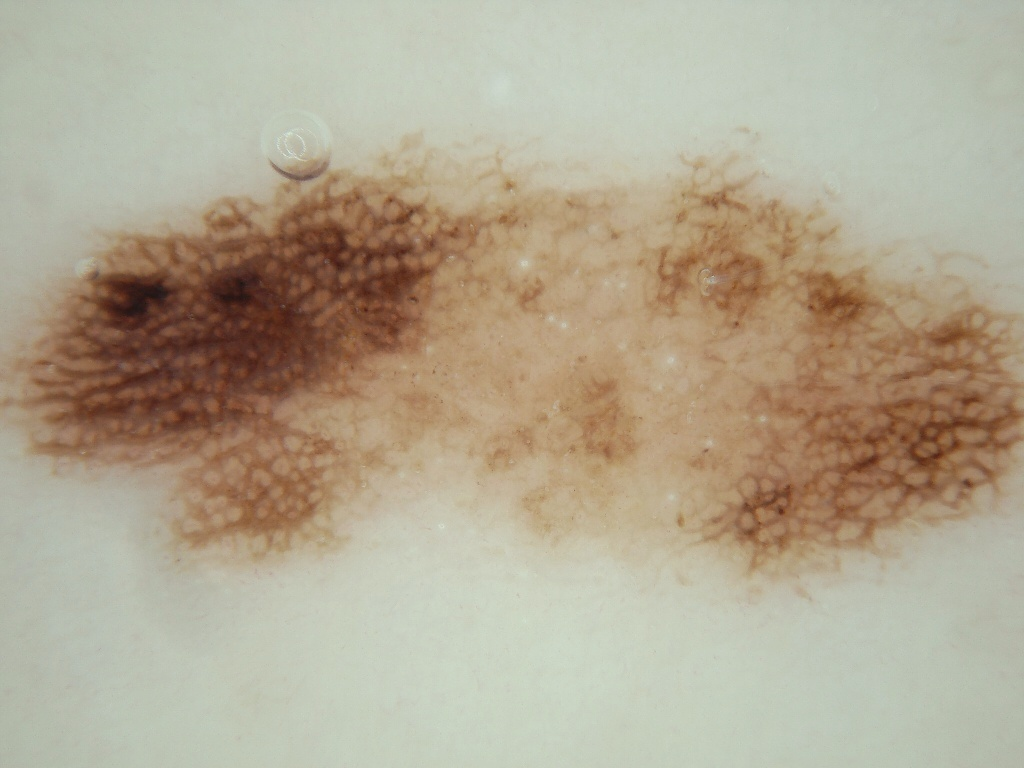Detected Lesion: (3, 125, 1024, 607)
